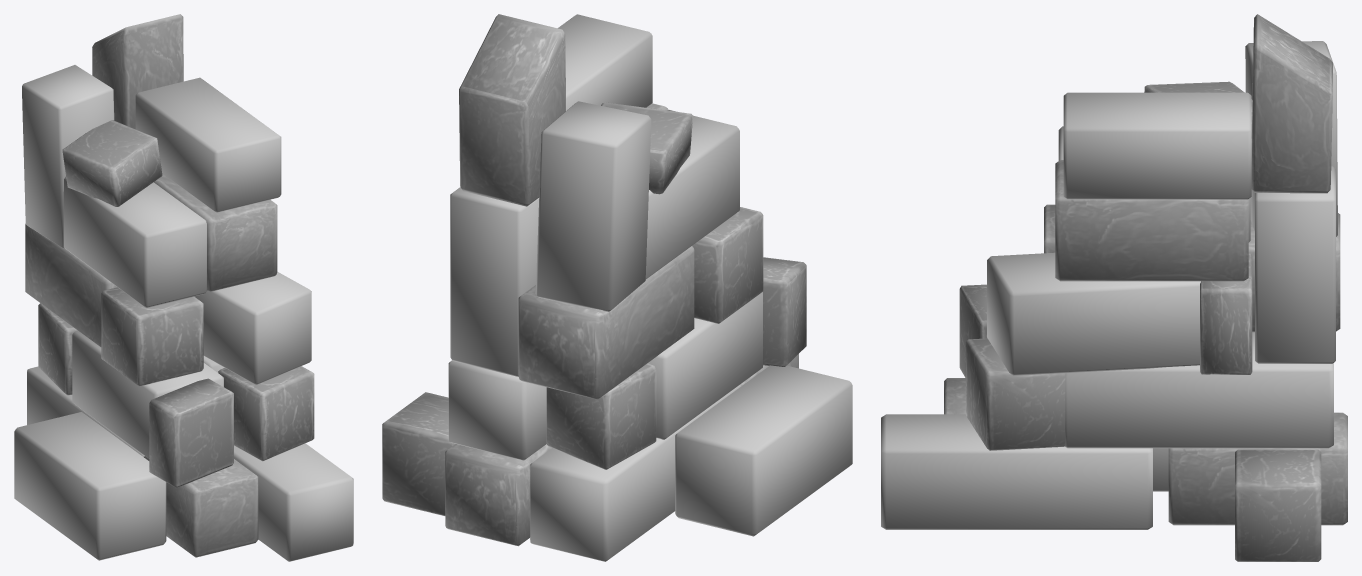
Rendered from Camara_Side_2.fbx.
3 views of the same model, side by side, from view 1: azimuth 30°, elevation 25°; view 2: azimuth 150°, elevation 25°; view 3: azimuth 270°, elevation 25° (orthographic). The views are drawn at different scales.
Parts seen in each view (by area): view 1: Brick#1.010, Brick#1.004, Brick#1.013, Brick#1.005, Brick#1.007, Brick#1.012, Brick#3.012, Brick#3.011, Brick#2.006, Brick#1.011, Brick#3.008, Brick#2.004 (+5 smaller); view 2: Brick#1.010, Brick#1.012, Brick#2.004, Brick#2.007, Brick#1.008, Door1, Brick#1.011, Brick#1.013, Brick#3.010, Brick#1.006, Brick#2.005, Brick#1.004 (+4 smaller); view 3: Brick#1.007, Brick#1.006, Brick#1.005, Brick#1.004, Brick#2.003, Brick#1.008, Brick#2.004, Brick#3.009, Brick#3.008, Brick#2.005, Brick#3.007, Brick#3.011 (+6 smaller).
Boxes of the visible parts, <box> form: Brick#1.010: <box>14,412,166,560</box>; Brick#1.004: <box>135,77,281,212</box>; Brick#1.013: <box>63,176,207,307</box>; Brick#1.005: <box>194,271,311,384</box>; Brick#1.007: <box>234,443,353,561</box>; Brick#1.012: <box>22,65,114,248</box>; Brick#3.012: <box>101,287,203,386</box>; Brick#3.011: <box>149,378,233,487</box>; Brick#2.006: <box>144,456,258,557</box>; Brick#1.011: <box>72,330,223,458</box>; Brick#3.008: <box>218,366,314,461</box>; Brick#2.004: <box>92,14,183,129</box>; Brick#1.010: <box>675,365,852,536</box>; Brick#1.012: <box>535,101,651,311</box>; Brick#2.004: <box>459,14,565,206</box>; Brick#2.007: <box>518,246,694,399</box>; Brick#1.008: <box>450,187,539,376</box>; Door1: <box>530,384,741,561</box>; Brick#1.011: <box>648,292,762,439</box>; Brick#1.013: <box>645,109,739,279</box>; Brick#3.010: <box>546,363,656,469</box>; Brick#1.006: <box>448,360,546,460</box>; Brick#2.005: <box>445,444,551,546</box>; Brick#1.004: <box>558,14,652,110</box>; Brick#1.007: <box>881,414,1152,529</box>; Brick#1.006: <box>1064,332,1333,448</box>; Brick#1.005: <box>987,252,1200,375</box>; Brick#1.004: <box>1063,92,1251,199</box>; Brick#2.003: <box>1055,160,1248,281</box>; Brick#1.008: <box>1255,166,1335,363</box>; Brick#2.004: <box>1251,14,1332,193</box>; Brick#3.009: <box>1235,449,1321,561</box>; Brick#3.008: <box>965,338,1065,450</box>; Brick#2.005: <box>1168,412,1347,525</box>; Brick#3.007: <box>1200,253,1252,374</box>; Brick#3.011: <box>959,284,986,377</box>.
Bounding box in the file's own units: 791 × 1192 × 1042.
